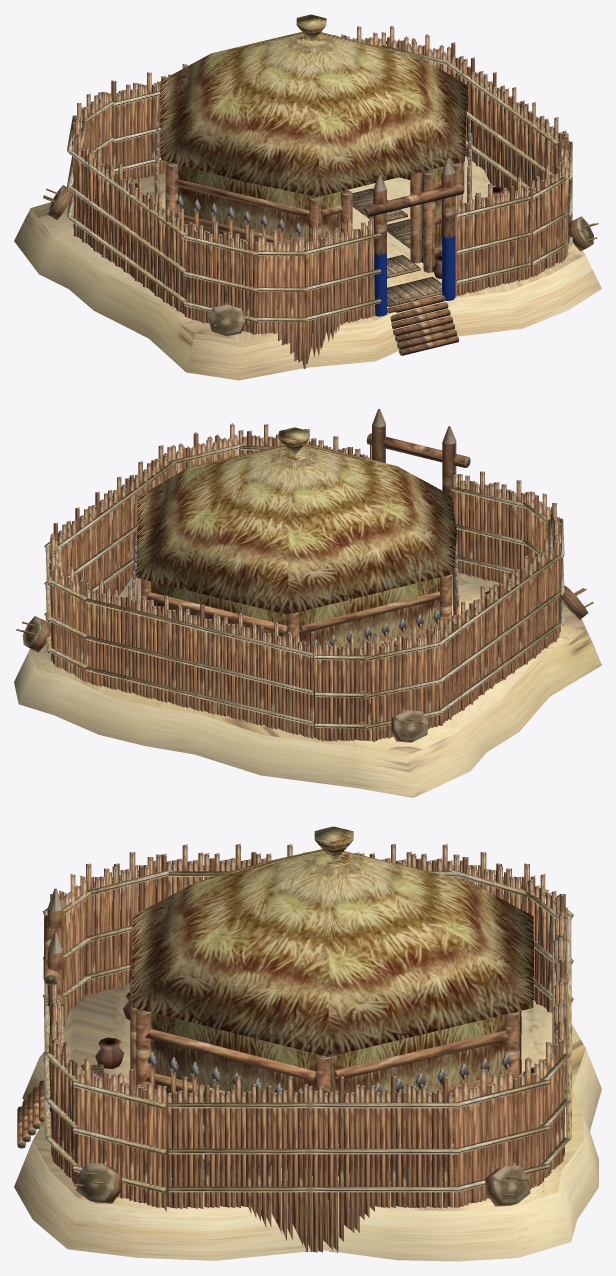
The model's file is fortress.dae.
3 renders of one model, top to bottom at view 1: azimuth 30°, elevation 25°; view 2: azimuth 150°, elevation 25°; view 3: azimuth 270°, elevation 25°, orthographic. The views are drawn at different scales.
Parts seen in each view (by area): view 1: fortress; view 2: fortress; view 3: fortress.
Boxes of the visible parts, left/top/right/bottom form: fortress: left=14, top=14, right=601, bottom=380; fortress: left=14, top=409, right=601, bottom=797; fortress: left=14, top=826, right=601, bottom=1261.
Bounding box in the file's own units: 29.52 × 27.73 × 15.59.
